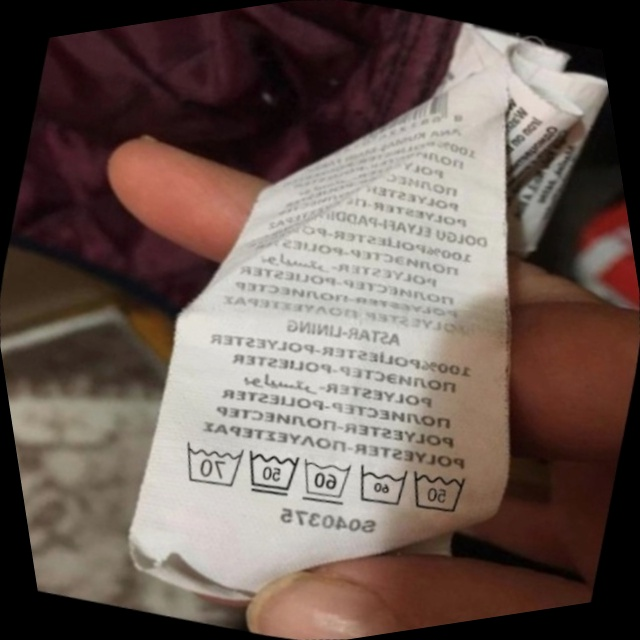50C: (394, 449, 483, 532), (229, 433, 312, 512)
60C: (284, 442, 364, 518), (341, 448, 420, 523)
70C: (165, 425, 254, 503)
